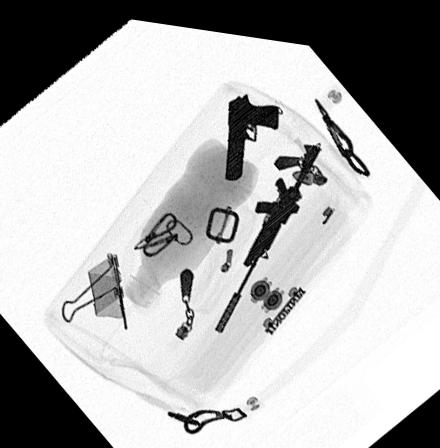Gun: (214, 135, 322, 326), (225, 85, 279, 173)
